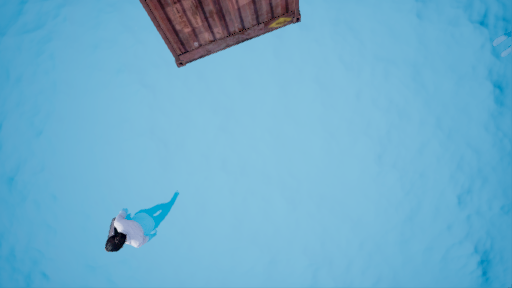person: (106, 190, 177, 261)
